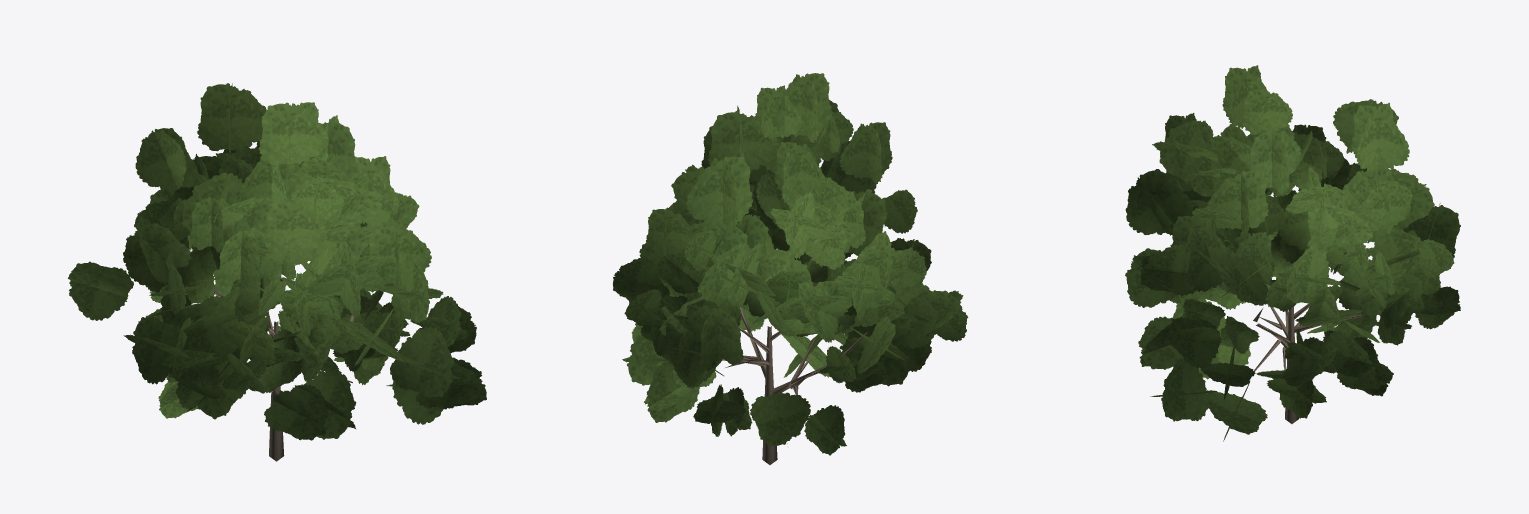
File: encina-muybajo.glb
3 views of the same model, side by side, from view 1: azimuth 30°, elevation 25°; view 2: azimuth 150°, elevation 25°; view 3: azimuth 270°, elevation 25° (orthographic). The views are drawn at different scales.
Visible parts, largest first — view 1: encina; view 2: encina; view 3: encina.
Boxes of the visible parts, x1=… form: encina: x1=68, y1=83, x2=486, y2=461; encina: x1=613, y1=73, x2=968, y2=464; encina: x1=1125, y1=65, x2=1460, y2=441.
Bounding box in the file's own units: 10.73 × 9.84 × 10.75.
Materials: 2 (1 with a texture image).
